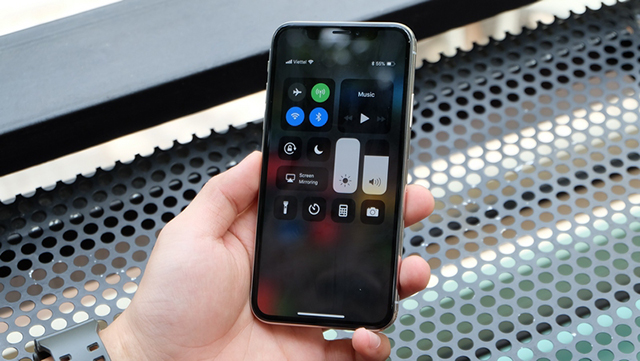iphone: (243, 18, 423, 329)
iphone10: (245, 20, 425, 331)
